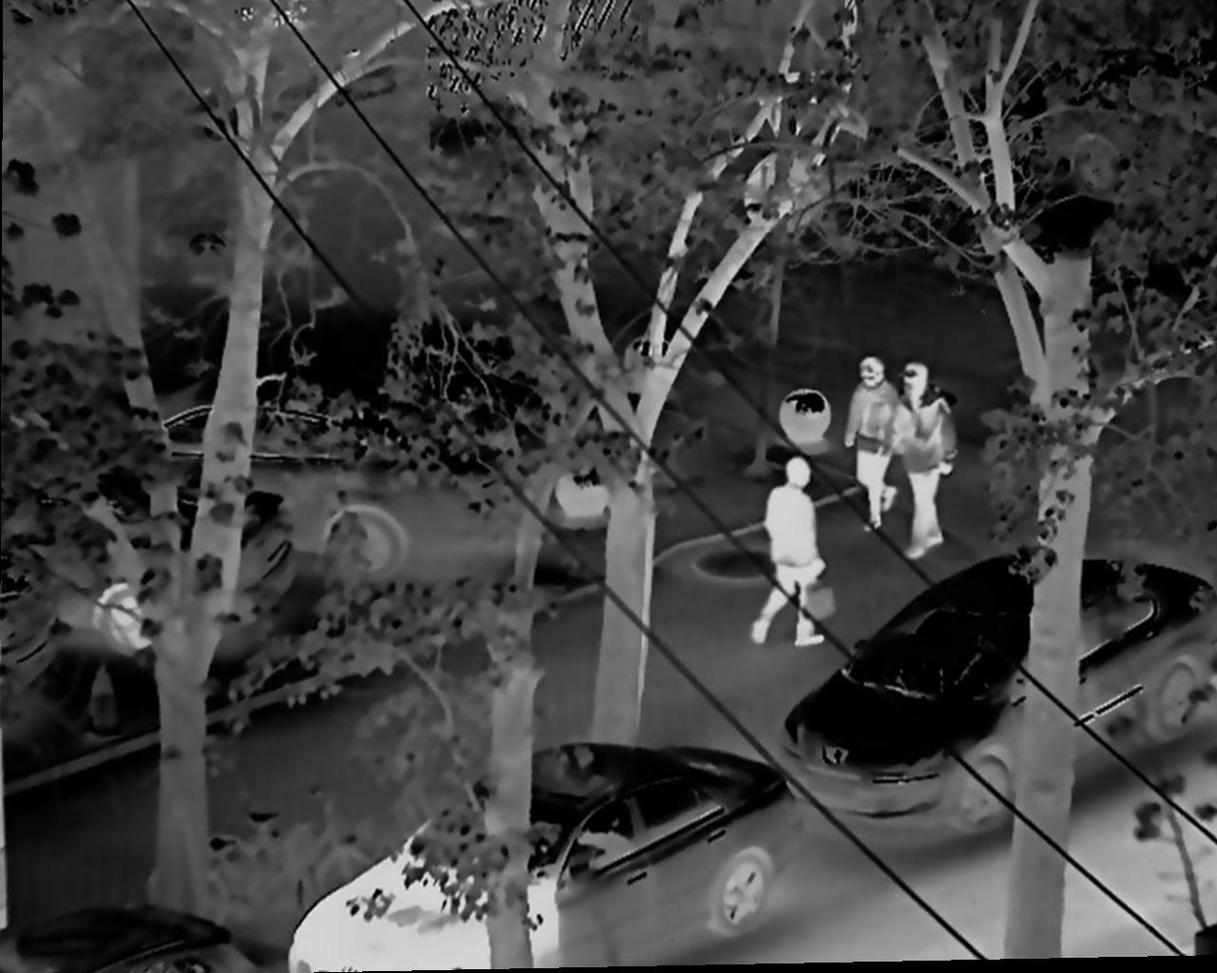person: (751, 457, 836, 647), (896, 361, 960, 559), (842, 356, 895, 526)
